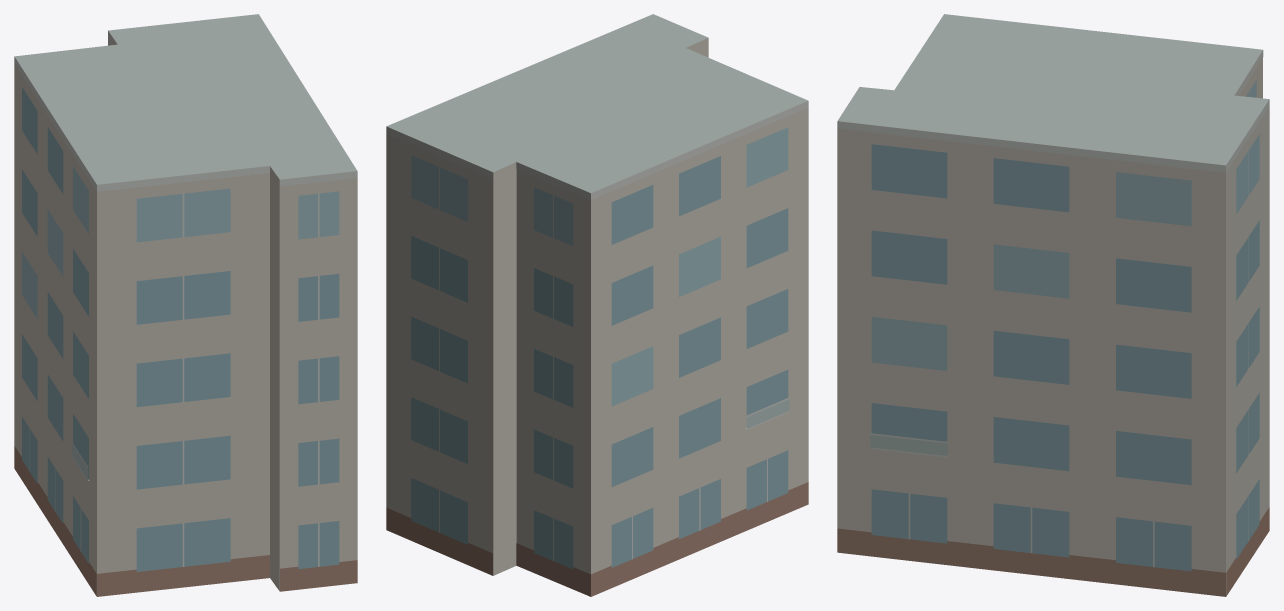
File: survey-upis-32813752.glb
The picture shows the model from 3 angles, left to right: view 1: azimuth 30°, elevation 25°; view 2: azimuth 150°, elevation 25°; view 3: azimuth 270°, elevation 25°; orthographic projection. The views are drawn at different scales.
Visible parts, largest first — view 1: survey-upis-32813752.tmp; view 2: survey-upis-32813752.tmp; view 3: survey-upis-32813752.tmp.
Part boxes in pixels (x1,y1,x2,y2): survey-upis-32813752.tmp: (14,14,357,596); survey-upis-32813752.tmp: (386,14,808,596); survey-upis-32813752.tmp: (837,14,1269,596).
Bounding box in the file's own units: 10.85 × 14.4 × 13.09.
